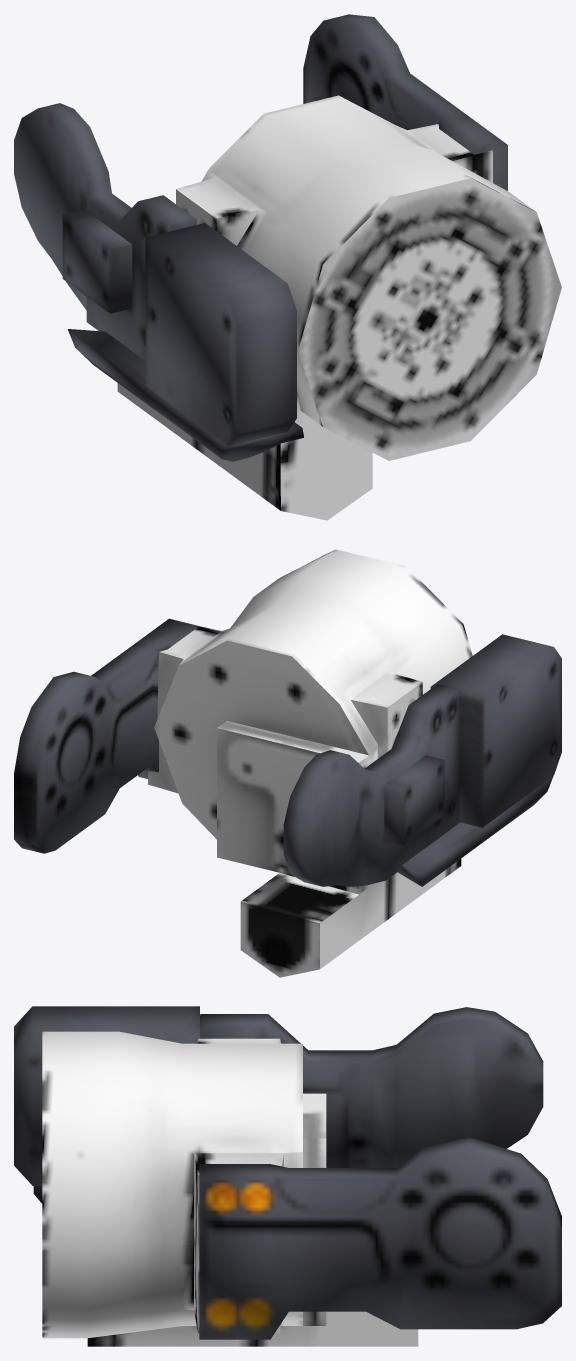
File: r_larm.obj
3 views of the same model, one above another, from view 1: azimuth 30°, elevation 25°; view 2: azimuth 150°, elevation 25°; view 3: azimuth 270°, elevation 25° (orthographic). The views are drawn at different scales.
Parts seen in each view (by area): view 1: <dummy_root>; view 2: <dummy_root>; view 3: <dummy_root>.
Part boxes in pixels (<box>): <dummy_root>: <box>14,14,561,520</box>; <dummy_root>: <box>14,549,561,977</box>; <dummy_root>: <box>14,1006,561,1346</box>.
Bounding box in the file's own units: 0.1433 × 0.1245 × 0.1854.
1 material, 1 textured.
